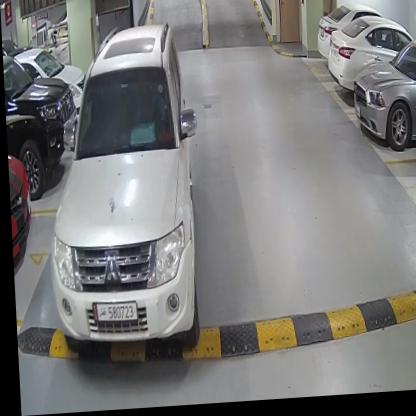np: (88, 300, 134, 327)
